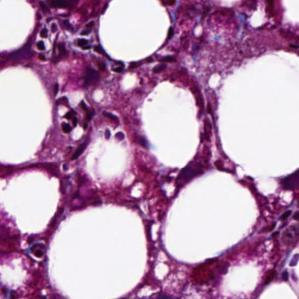inflammation: (35, 7, 95, 76), (53, 90, 104, 140)
